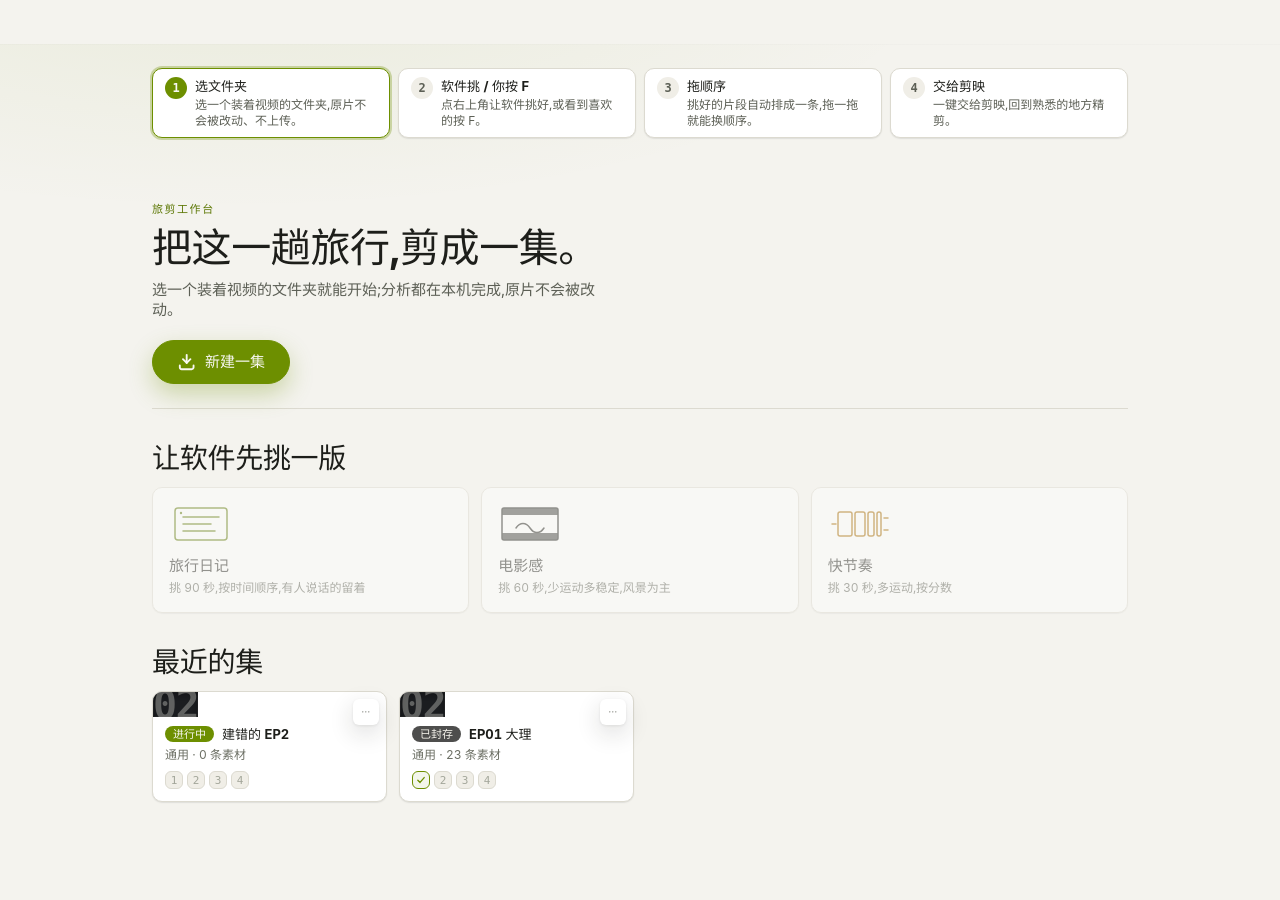
Test: HomeScreen · R15 集卡片「···」→「删除这一集」 › 每张集卡右上角有「集操作 · <标题>」,菜单里有「重命名」「删除这一集」,确认块说原片不会被删
Click the button named "集操作 · 建错的 EP2" at (366, 712), box x1=353 y1=699 x2=379 y2=725
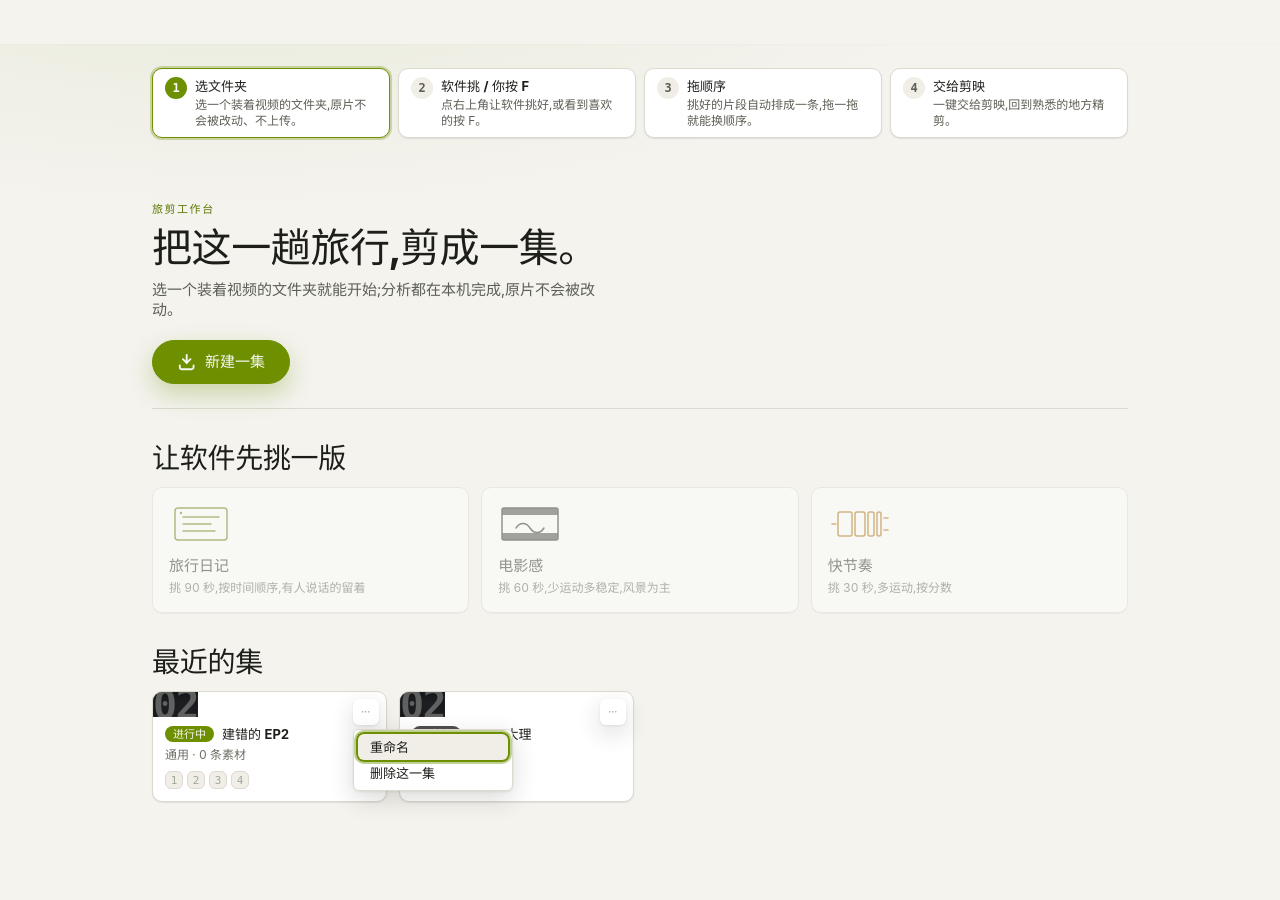
Result: the menu items read "重命名", "删除这一集", in this order
Click the menu item "删除这一集" at (433, 773), box x1=358 y1=760 x2=508 y2=786
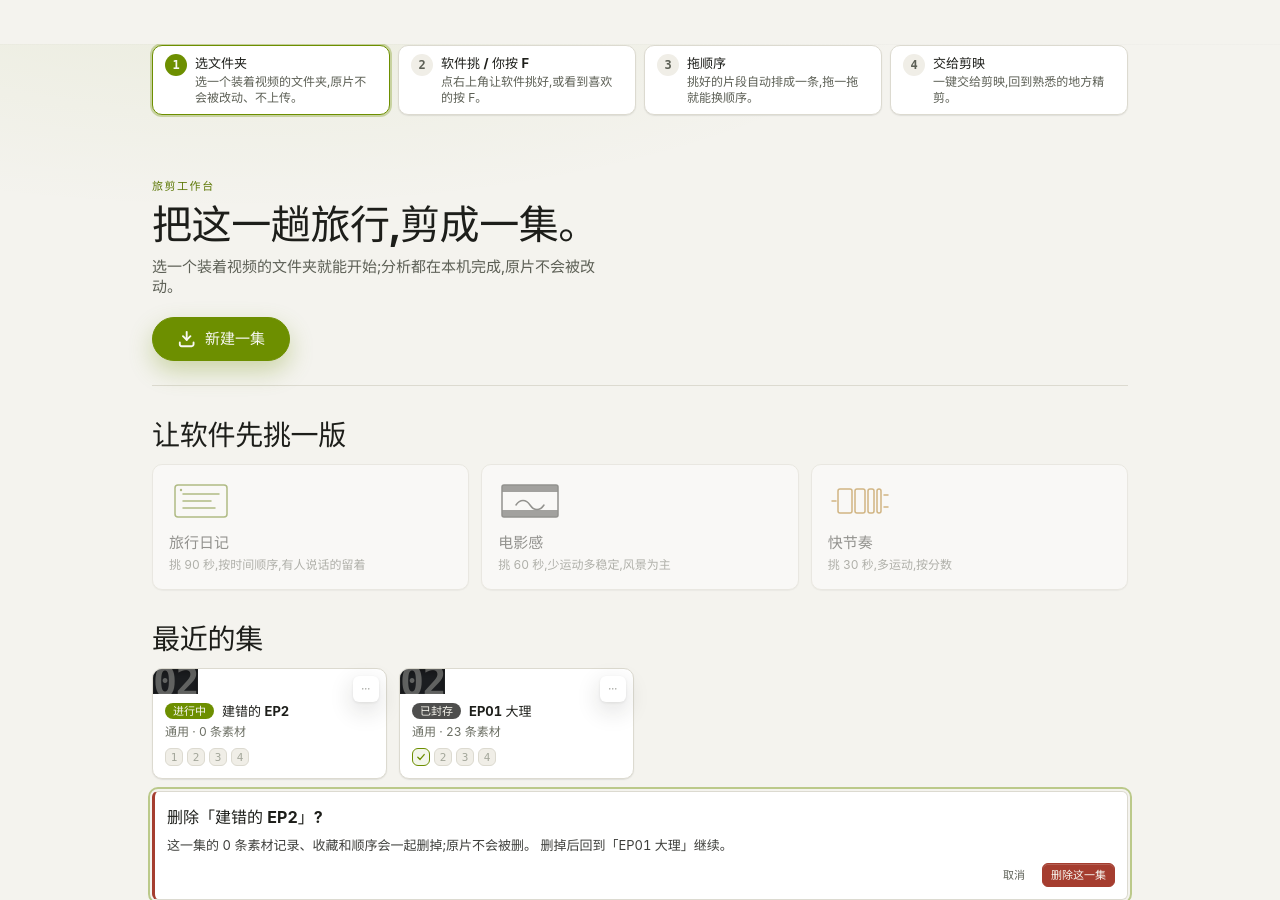
Expected: the button "02 建错的 EP2 进行中 通用 · 0 条素材 1 2 3 4" is shown, x1=152 y1=668 x2=387 y2=779
Result: the dialog named "确认删除集" shows "原片不会被删" at x1=167 y1=837 x2=537 y2=853
Result: the dialog named "确认删除集" shows "回到「EP01 大理」" at x1=537 y1=837 x2=733 y2=853
